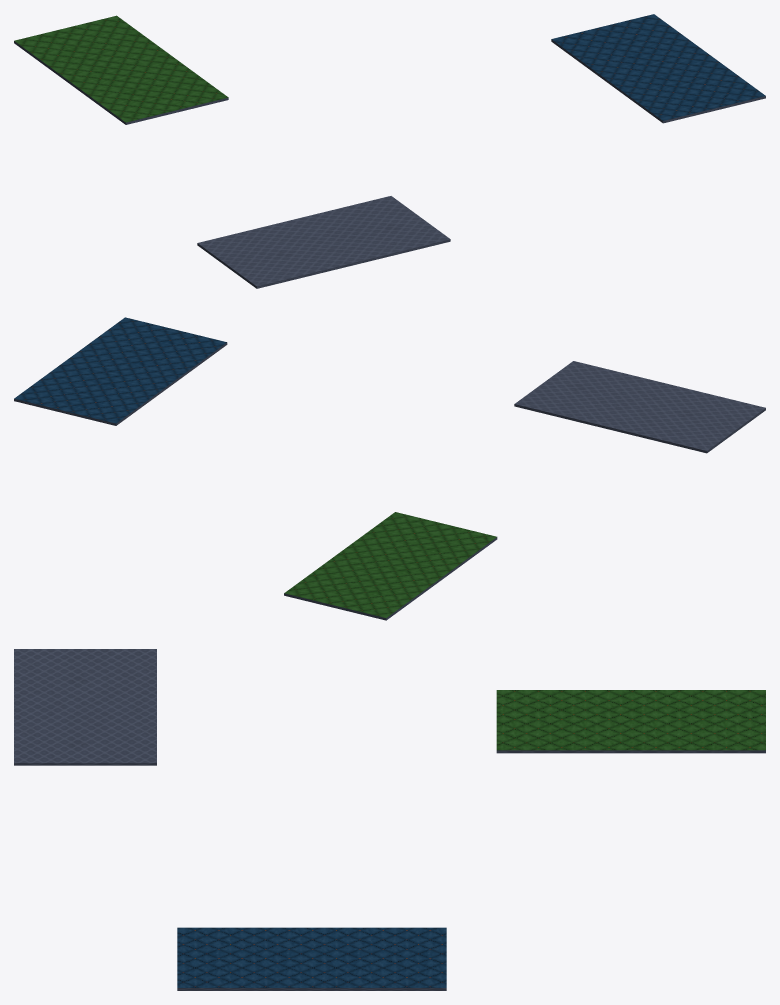
Rendered from matt.fbx.
The picture shows the model from 3 angles, top to bottom: view 1: azimuth 30°, elevation 25°; view 2: azimuth 150°, elevation 25°; view 3: azimuth 270°, elevation 25°; orthographic projection. The views are drawn at different scales.
Visible parts, largest first — view 1: pCube88, pCube65, pCube89; view 2: pCube88, pCube65, pCube89; view 3: pCube89, pCube65, pCube88.
Part boxes in pixels (box(x1,y1,x2,y2)): pCube88: box(197, 196, 450, 288); pCube65: box(14, 15, 228, 124); pCube89: box(551, 14, 765, 123); pCube88: box(514, 361, 765, 453); pCube65: box(284, 512, 497, 620); pCube89: box(14, 317, 227, 425); pCube89: box(177, 927, 446, 990); pCube65: box(496, 690, 765, 753); pCube88: box(14, 649, 156, 765).
Size of the model in its own units: 3020 by 12.23 by 2833.
